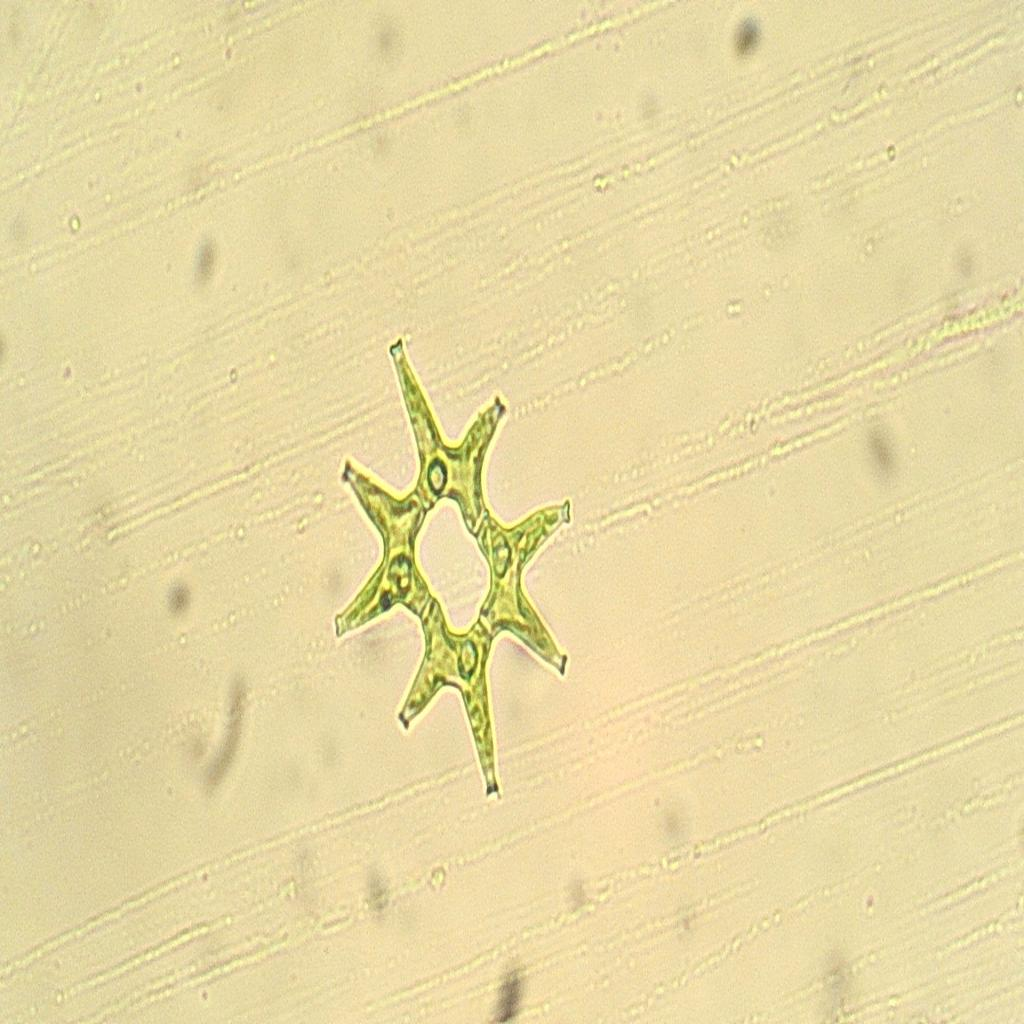Pediastrum_75O: (306, 292, 590, 813)
